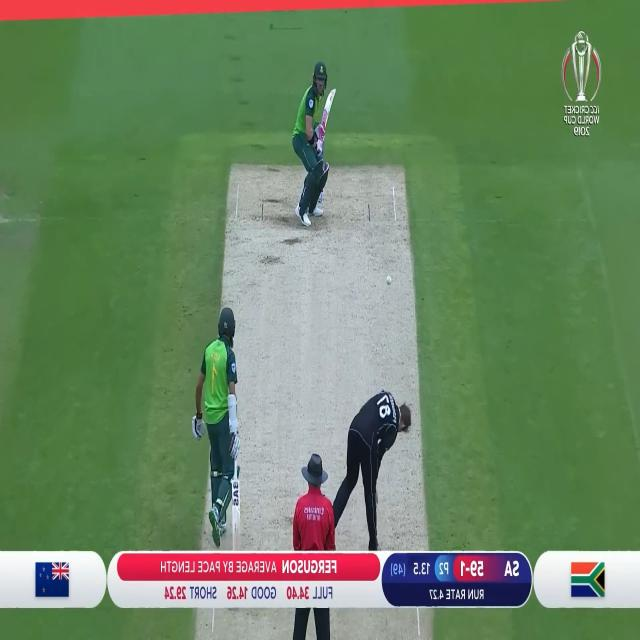ball: (386, 273, 393, 287)
